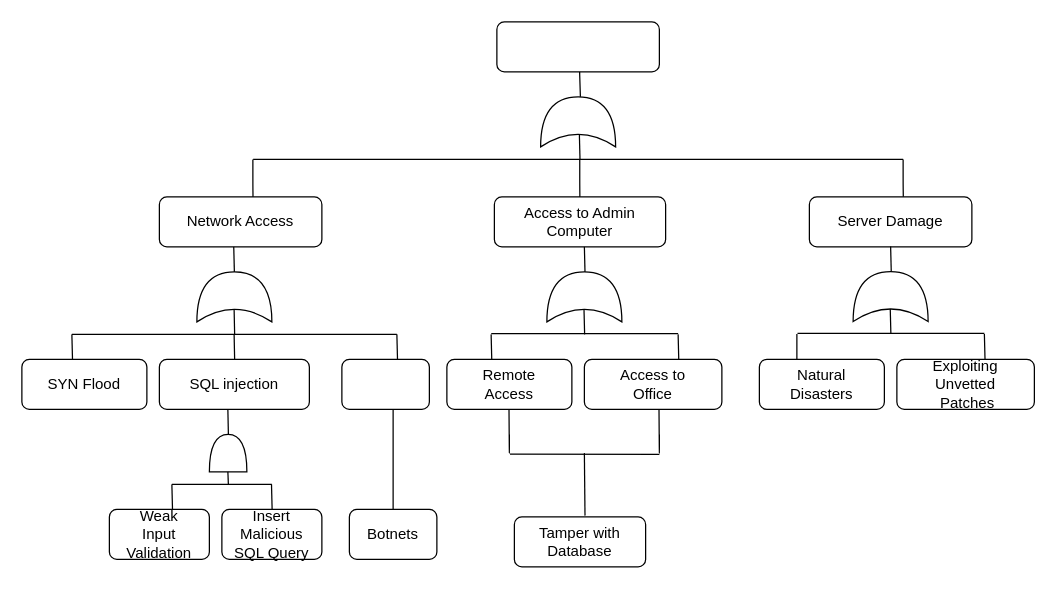
This 1056x589 diagram has some shape labels left out. The centre of each missing label's shape, as x and y in pixels:
DDos: the point at 385,383
Website Database: the point at 577,46
